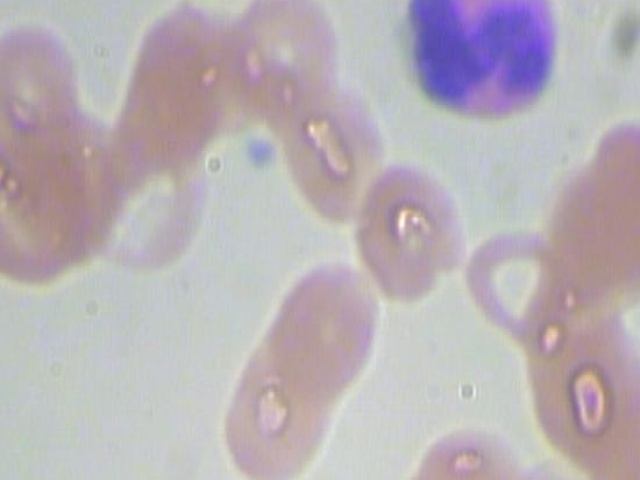Platelets: (238, 129, 283, 176)
RBC: (213, 319, 336, 480), (258, 253, 381, 406), (349, 154, 472, 307), (270, 70, 393, 223), (0, 6, 94, 159)
WBC: (383, 0, 570, 141)
